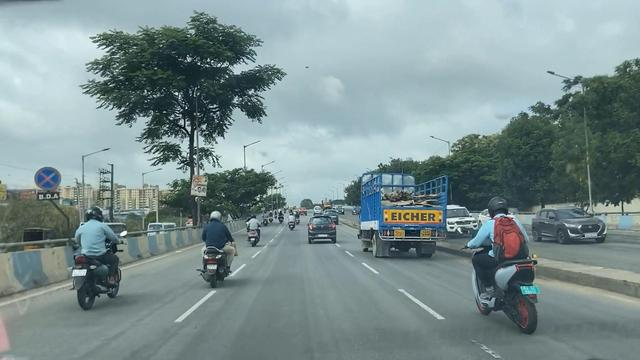HMV: (361, 176, 448, 257)
LMV: (460, 207, 540, 321), (71, 202, 138, 318), (199, 213, 245, 292), (307, 213, 335, 247), (247, 207, 266, 252)
